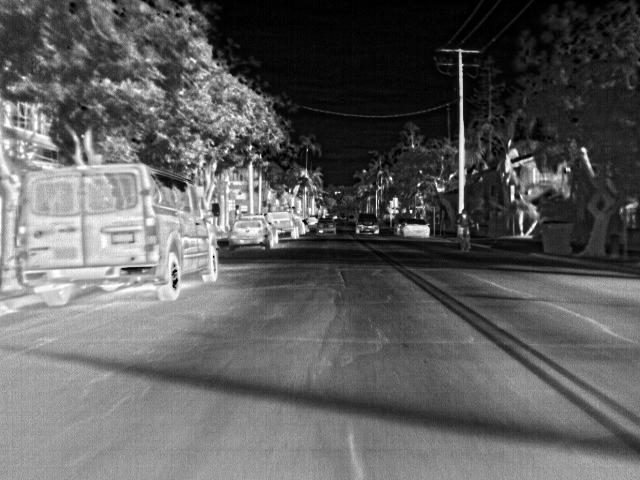car: (15, 160, 221, 308), (227, 216, 279, 248), (265, 213, 301, 238), (402, 219, 430, 238), (358, 212, 379, 234), (317, 218, 337, 236), (391, 218, 403, 236), (299, 218, 312, 234), (349, 214, 356, 221)
person: (458, 208, 471, 233)
